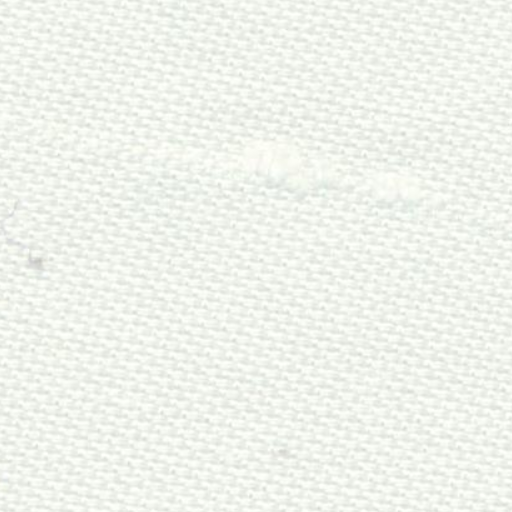DaiSha: (44, 98, 474, 240)
